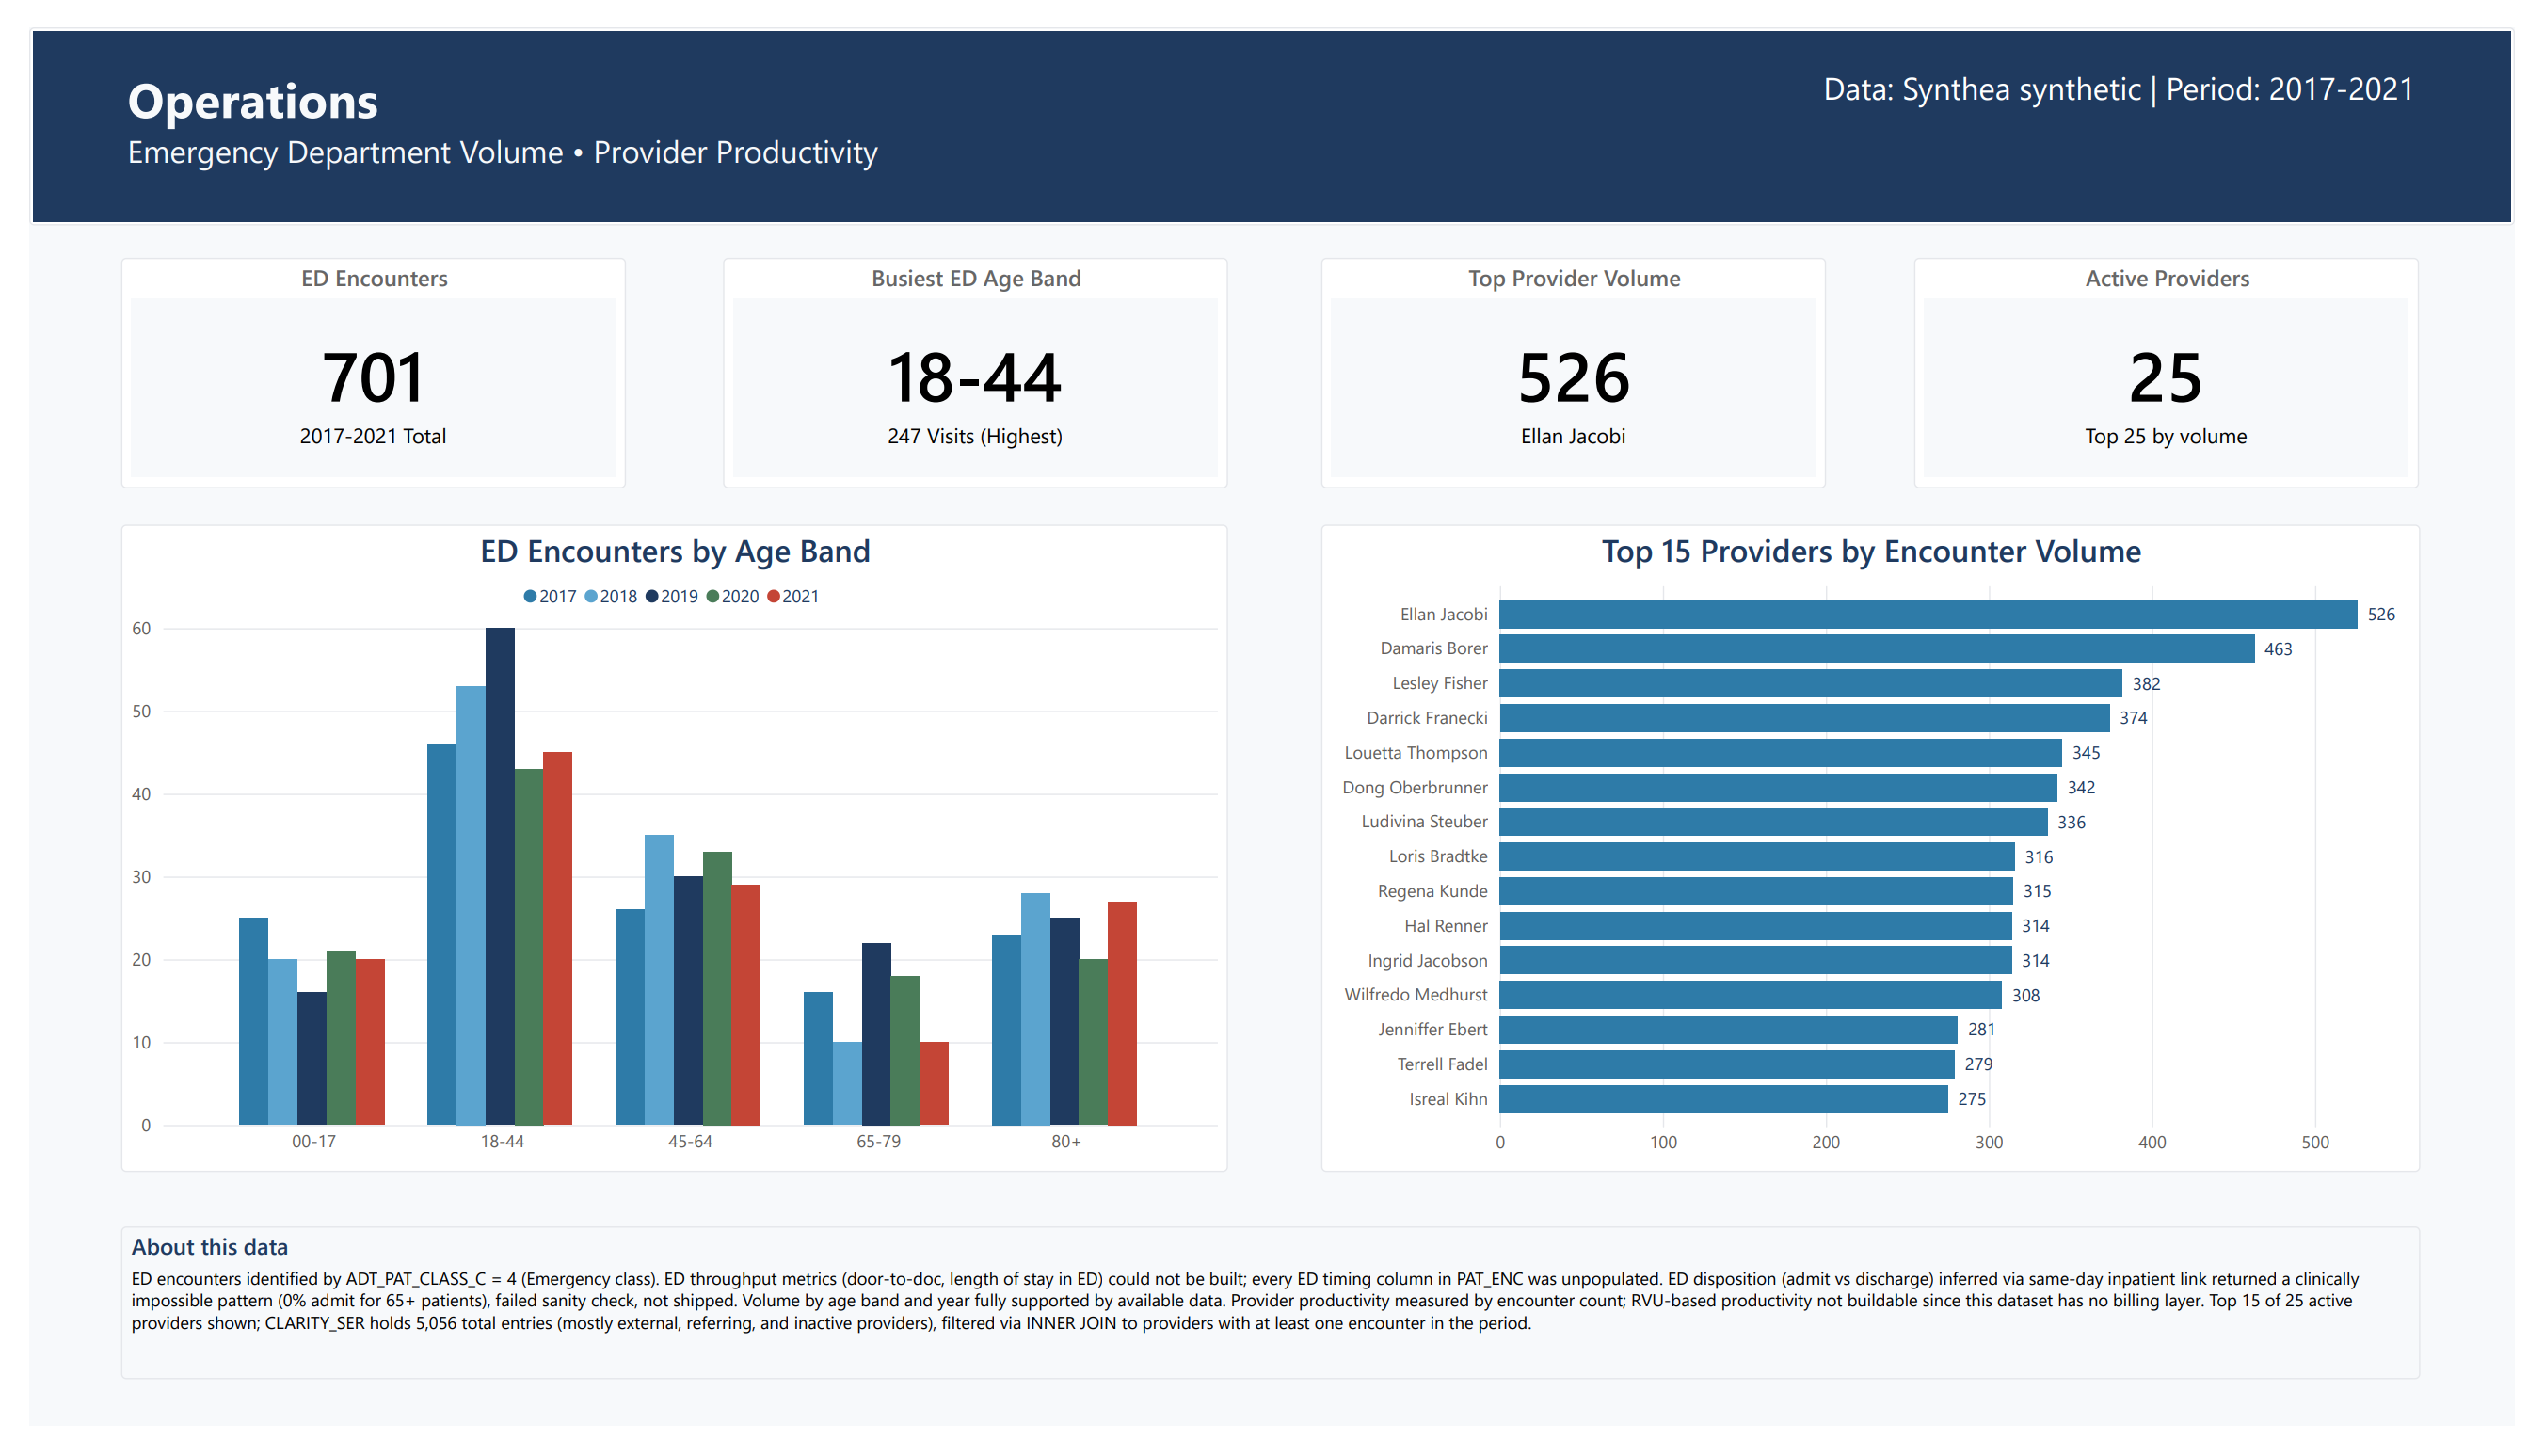

Layout of this report page (visuals, bound fields, positions):
{"tool":"powerbi","page":{"name":"Page 2","canvas":[1920,1080],"ordinal":1},"visuals":[{"type":"shape","box":[0,0,1920.4,153.2],"z":0},{"type":"textbox","box":[70.7,24.6,623.6,103.4],"z":1000},{"type":"textbox","box":[1380.7,24.6,496.3,94.8],"z":2000},{"type":"cardVisual","title":"ED Encounters","fields":{"Data":["Sum(Report_03_ED_Volume.Total ED Encounters)"]},"box":[71.1,178.2,390.3,178.2],"z":3000},{"type":"cardVisual","title":"Busiest ED Age Band","fields":{"Data":["Report_03_ED_Volume.Busiest ED Age Band"]},"box":[535.7,178.2,390.3,178.2],"z":4000},{"type":"cardVisual","title":"Top Provider Volume","fields":{"Data":["Report_06_Provider_Productivity.Top Provider Volume"]},"box":[998.1,178.2,390.3,178.2],"z":5000},{"type":"cardVisual","title":"Active Providers","fields":{"Data":["Report_06_Provider_Productivity.Active Providers"]},"box":[1456.1,178.2,390.3,178.2],"z":6000},{"type":"clusteredColumnChart","title":"ED Encounters by Age Band","fields":{"Category":["Report_03_ED_Volume.Age Band"],"Y":["Sum(Report_03_ED_Volume.2017)","Sum(Report_03_ED_Volume.2018)","Sum(Report_03_ED_Volume.2019)","Sum(Report_03_ED_Volume.2020)","Sum(Report_03_ED_Volume.2021)"]},"box":[71.3,384.4,854.6,499.2],"z":6001},{"type":"barChart","title":"Top 15 Providers by Encounter Volume","fields":{"Category":["Report_06_Provider_Productivity.Provider"],"Y":["Sum(Report_06_Provider_Productivity.Encounters 2017-2021)"]},"box":[998.5,384.4,848.6,499.2],"z":6002},{"type":"textbox","title":"About this data","box":[71.3,925.9,1775.7,118.5],"z":6003}]}

Visuals, with their boxes in screenshot pixels (x1, y1, x2, y2), scaled from the page's 1920x1080 canvas onto the 2544x1456 screenshot:
shape: (x1=0, y1=0, x2=2543, y2=206)
textbox: (x1=94, y1=33, x2=920, y2=172)
textbox: (x1=1830, y1=33, x2=2487, y2=161)
"ED Encounters" cardVisual: (x1=94, y1=240, x2=612, y2=481)
"Busiest ED Age Band" cardVisual: (x1=710, y1=240, x2=1227, y2=481)
"Top Provider Volume" cardVisual: (x1=1322, y1=240, x2=1840, y2=481)
"Active Providers" cardVisual: (x1=1929, y1=240, x2=2446, y2=481)
"ED Encounters by Age Band" clusteredColumnChart: (x1=94, y1=519, x2=1226, y2=1192)
"Top 15 Providers by Encounter Volume" barChart: (x1=1323, y1=519, x2=2447, y2=1192)
"About this data" textbox: (x1=94, y1=1248, x2=2447, y2=1408)
